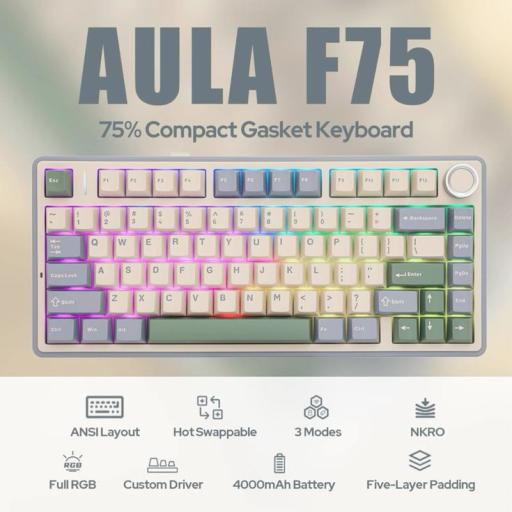keyboard: (34, 154, 490, 362)
